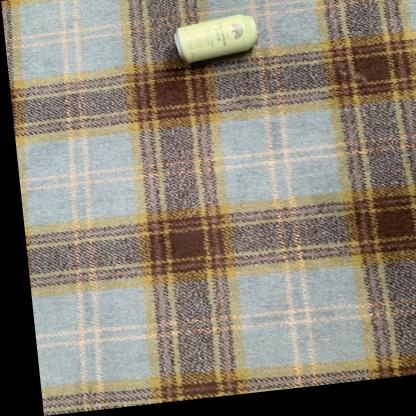trash: (174, 15, 256, 62)
